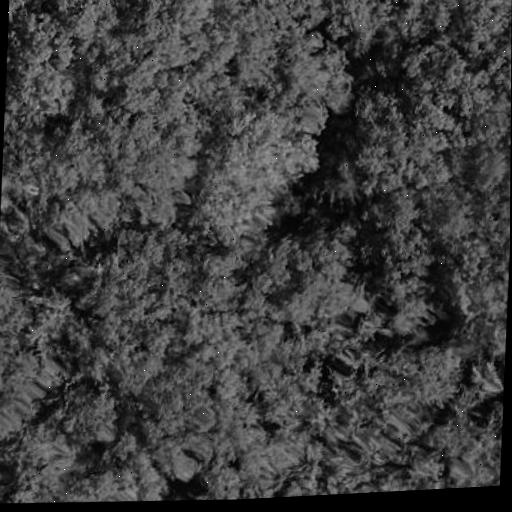tree-top: (38, 88, 192, 247), (188, 101, 317, 245), (85, 229, 185, 391), (331, 82, 464, 200), (448, 139, 511, 363), (358, 193, 452, 340), (141, 357, 243, 486), (252, 226, 361, 330), (36, 427, 173, 507), (389, 398, 503, 492), (0, 255, 49, 452), (210, 0, 317, 90), (102, 0, 230, 72), (269, 34, 354, 133), (324, 0, 432, 60), (5, 4, 77, 89), (180, 232, 250, 319), (420, 0, 512, 63), (385, 339, 461, 414), (4, 60, 86, 128), (0, 416, 76, 488), (53, 384, 125, 448), (46, 0, 117, 47)
